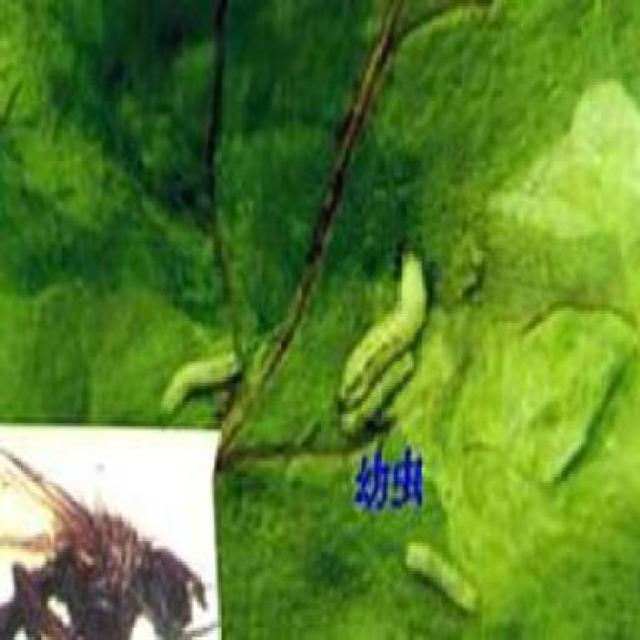whorl-maggot: (335, 238, 431, 438), (400, 530, 488, 618), (151, 338, 247, 414)
